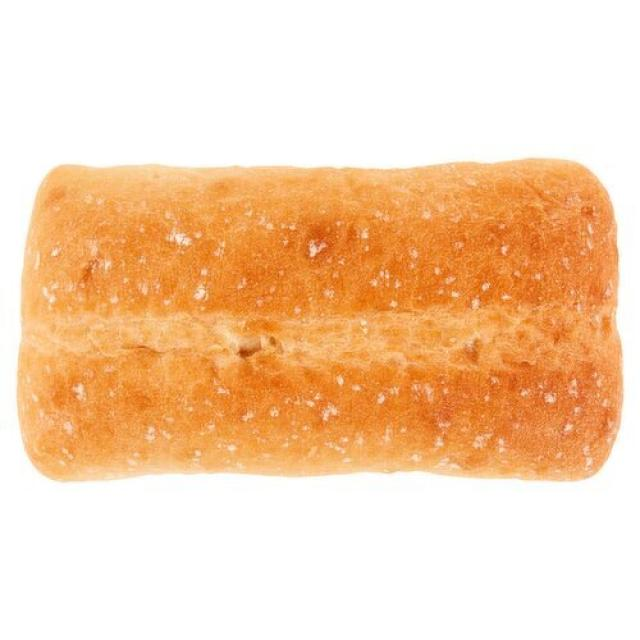Ciabatta: (19, 160, 622, 479)
